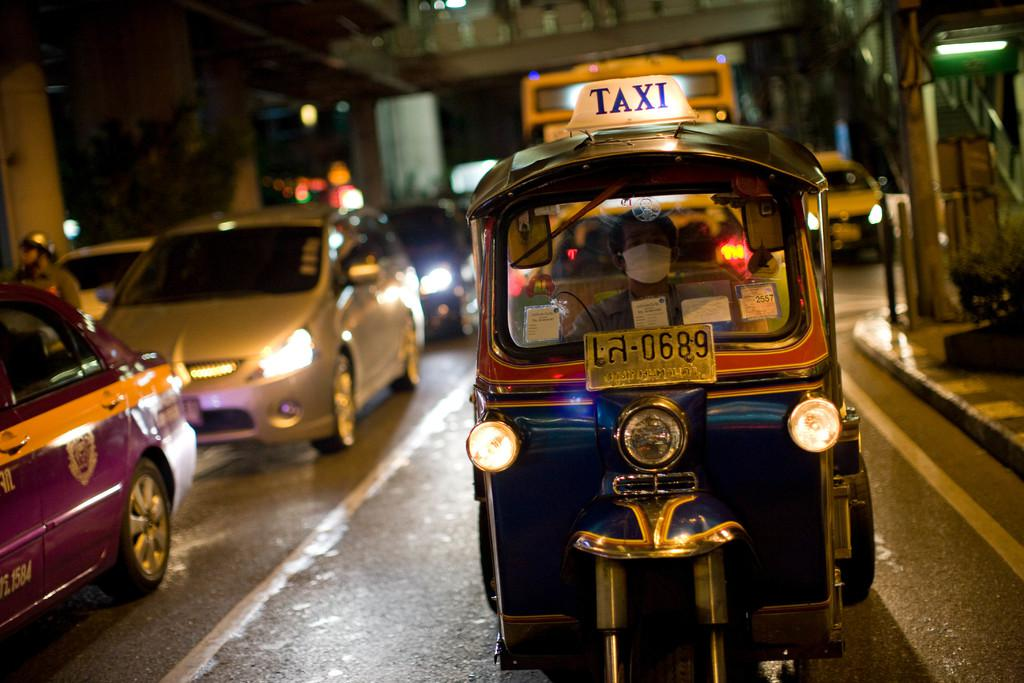taxi: (464, 75, 878, 683)
